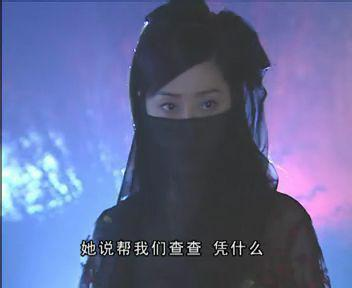OK: (152, 88, 233, 169)
